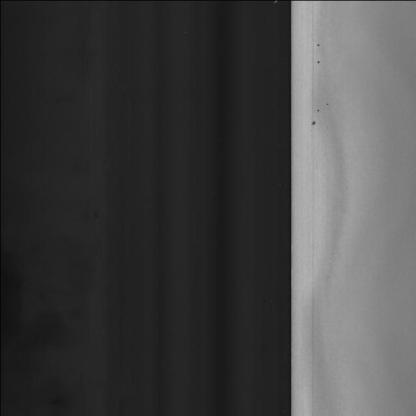oil_spot: (306, 103, 326, 130), (312, 32, 323, 71)
